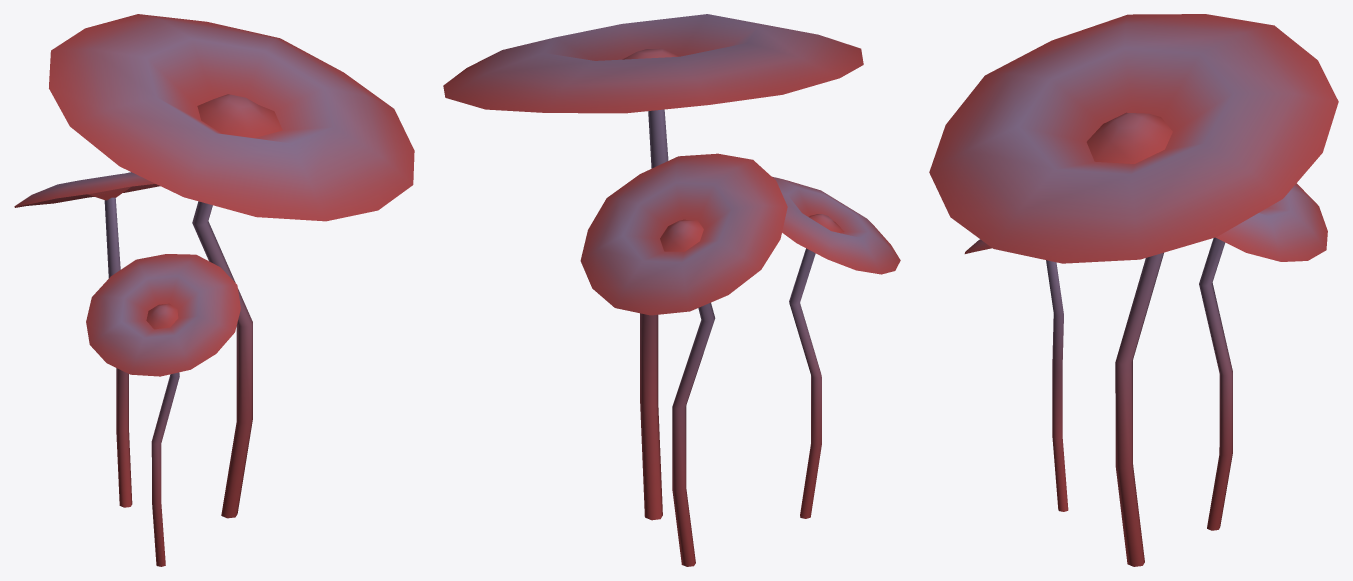
The model's file is plant_13.fbx.
3 renders of one model, left to right at view 1: azimuth 30°, elevation 25°; view 2: azimuth 150°, elevation 25°; view 3: azimuth 270°, elevation 25°, orthographic. The views are drawn at different scales.
Visible parts, largest first — view 1: plant_13; view 2: plant_13; view 3: plant_13.
Part boxes in pixels (<box>): plant_13: <box>14,14,414,566</box>; plant_13: <box>443,14,900,566</box>; plant_13: <box>929,14,1338,566</box>.
Bounding box in the file's own units: 3.33 × 4.23 × 3.24.
